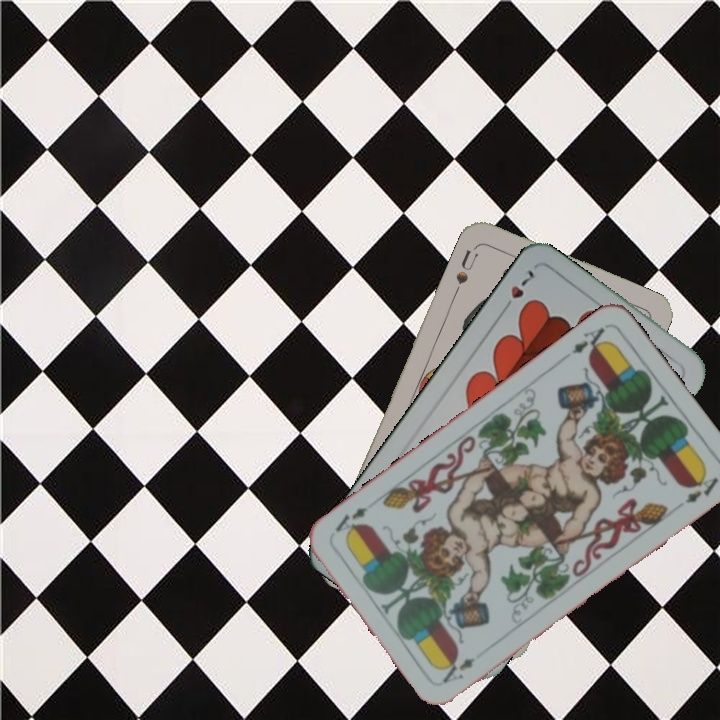EA: (567, 322, 611, 359), (438, 653, 478, 686)
H7: (498, 265, 537, 315)
SU: (451, 245, 481, 287)
